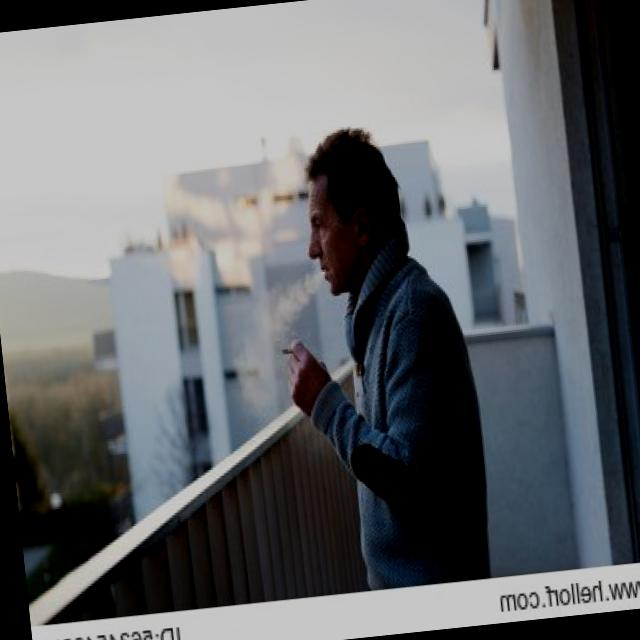cigarette: (280, 344, 296, 358)
